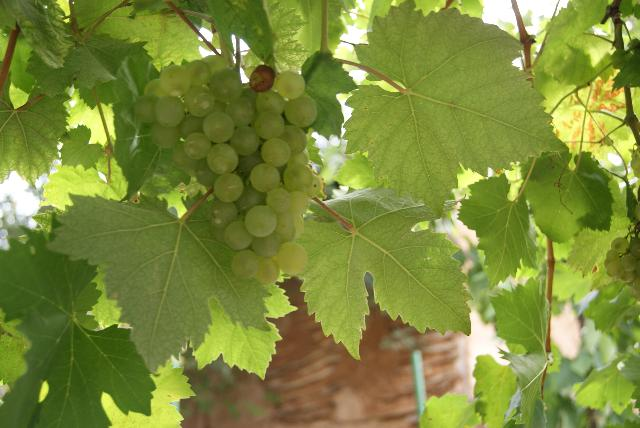grapes: (134, 55, 322, 285)
